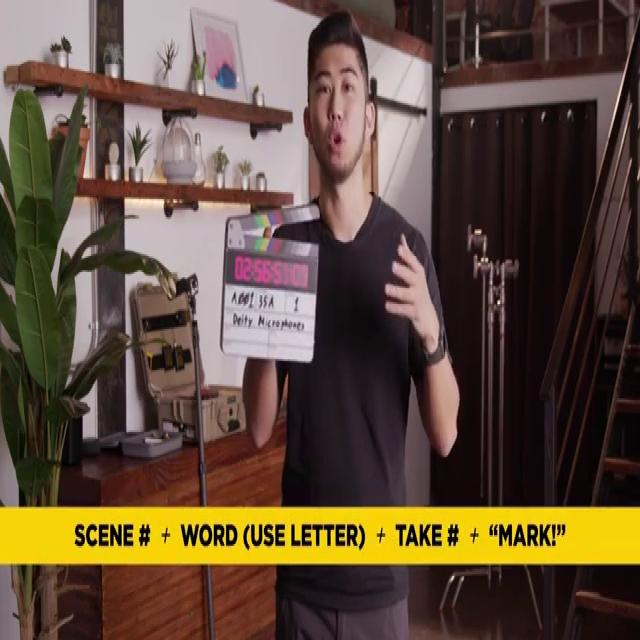Clapperboard: (220, 200, 319, 366)
